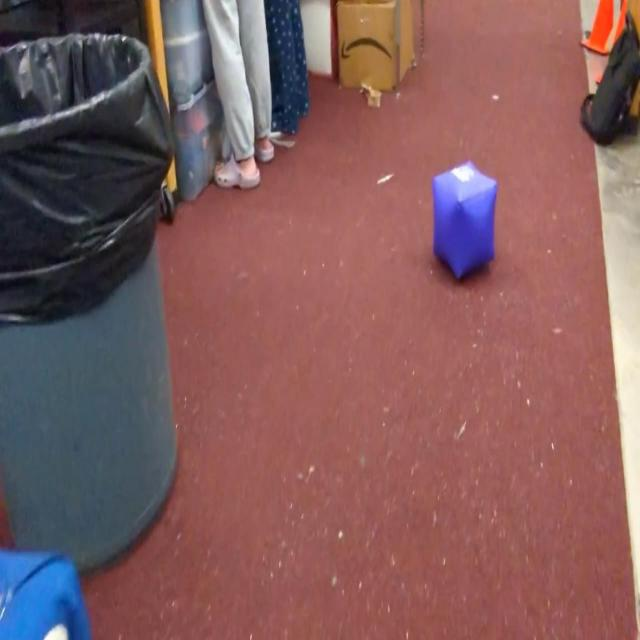frc_cube: (432, 160, 498, 286)
